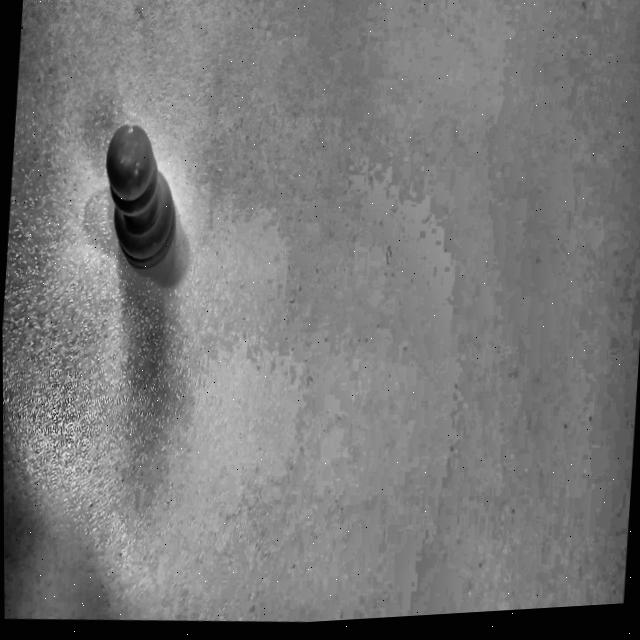white-pawn: (104, 123, 181, 283)
